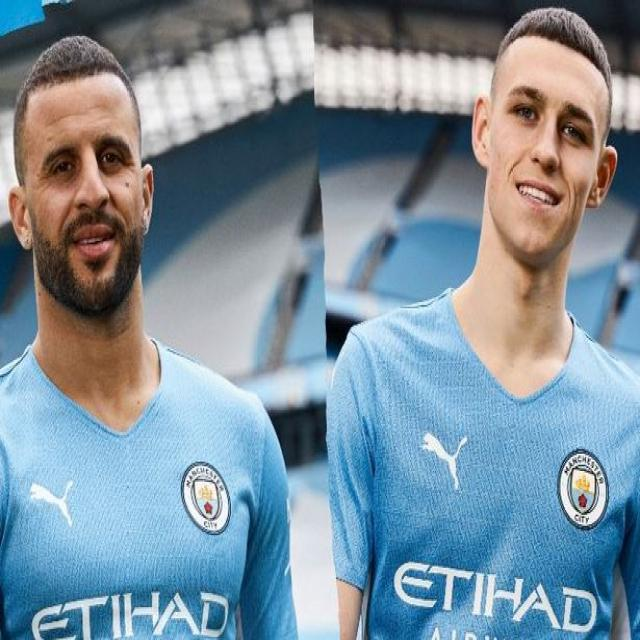Etihad Airways: (392, 555, 603, 640), (29, 587, 232, 640)
Puma: (419, 424, 471, 492), (27, 474, 74, 532)
